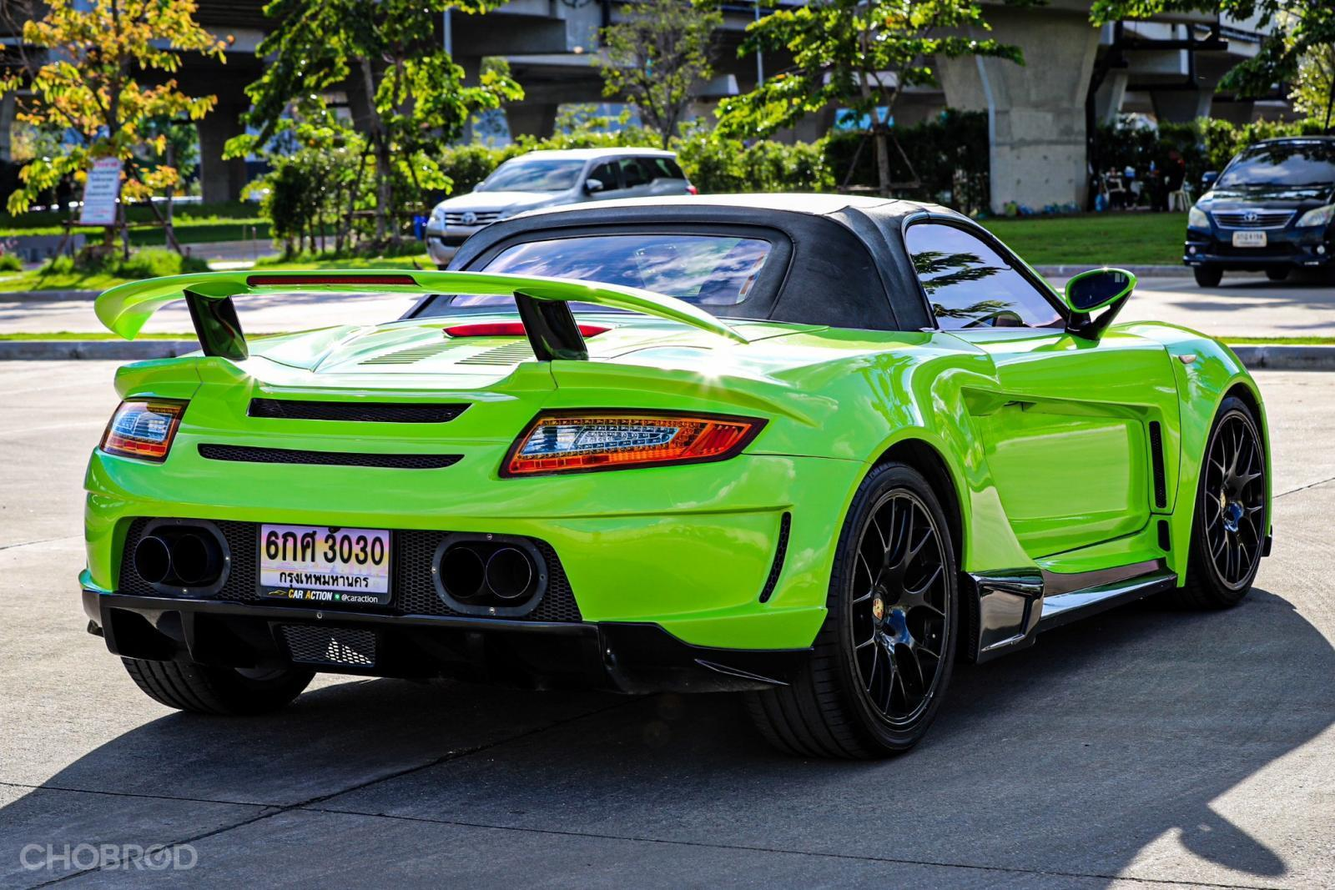license-plate: (257, 518, 394, 609)
